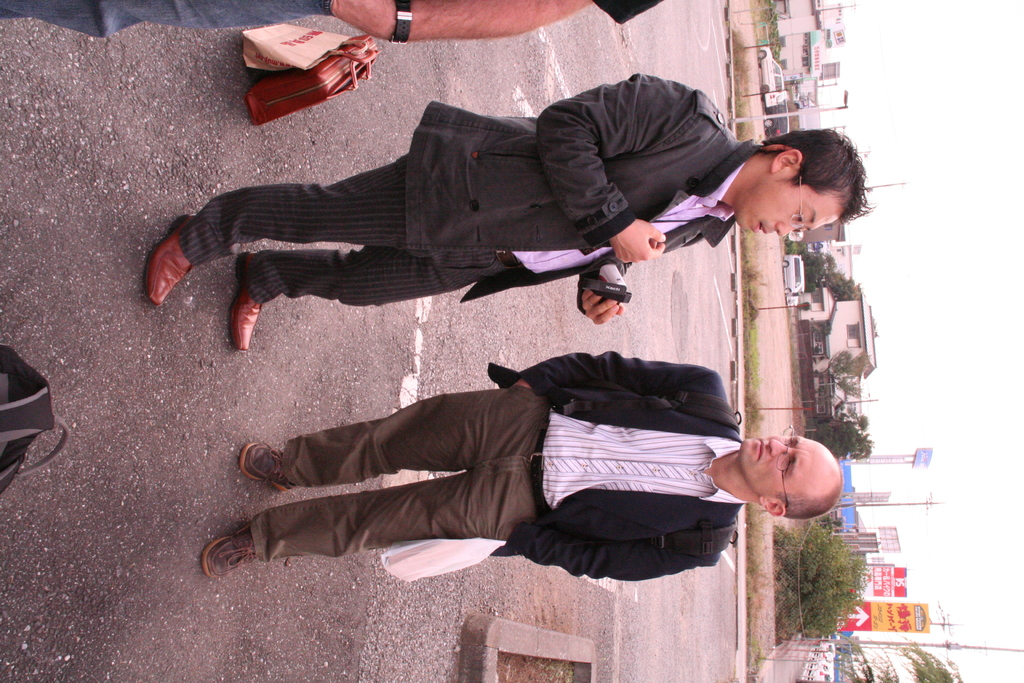Footwear: (150, 213, 191, 308), (200, 523, 259, 584), (236, 253, 268, 357), (237, 442, 290, 495)
